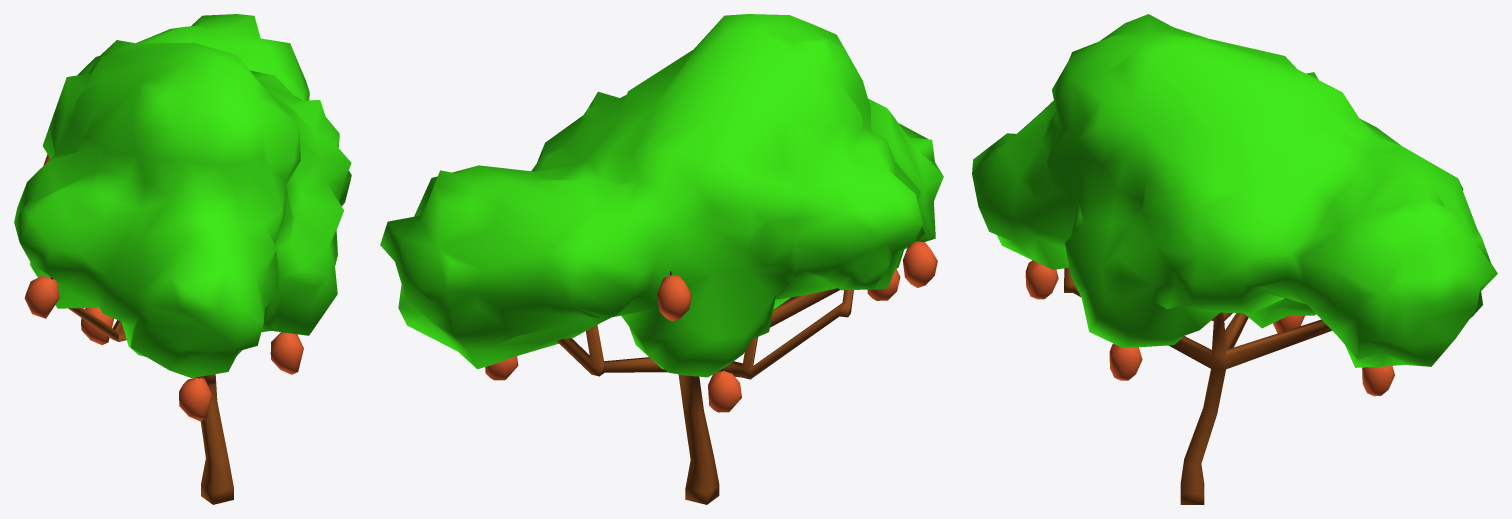
The model's file is SM_MangoTree_002_LOD3.fbx.
The picture shows the model from 3 angles, left to right: view 1: azimuth 30°, elevation 25°; view 2: azimuth 150°, elevation 25°; view 3: azimuth 270°, elevation 25°; orthographic projection. The views are drawn at different scales.
Parts seen in each view (by area): view 1: MangoTree_02; view 2: MangoTree_02; view 3: MangoTree_02.
Part boxes in pixels (x1=…): MangoTree_02: x1=14, y1=14, x2=351, y2=504; MangoTree_02: x1=380, y1=14, x2=943, y2=504; MangoTree_02: x1=972, y1=14, x2=1497, y2=504.
Bounding box in the file's own units: 272 × 299 × 318.
